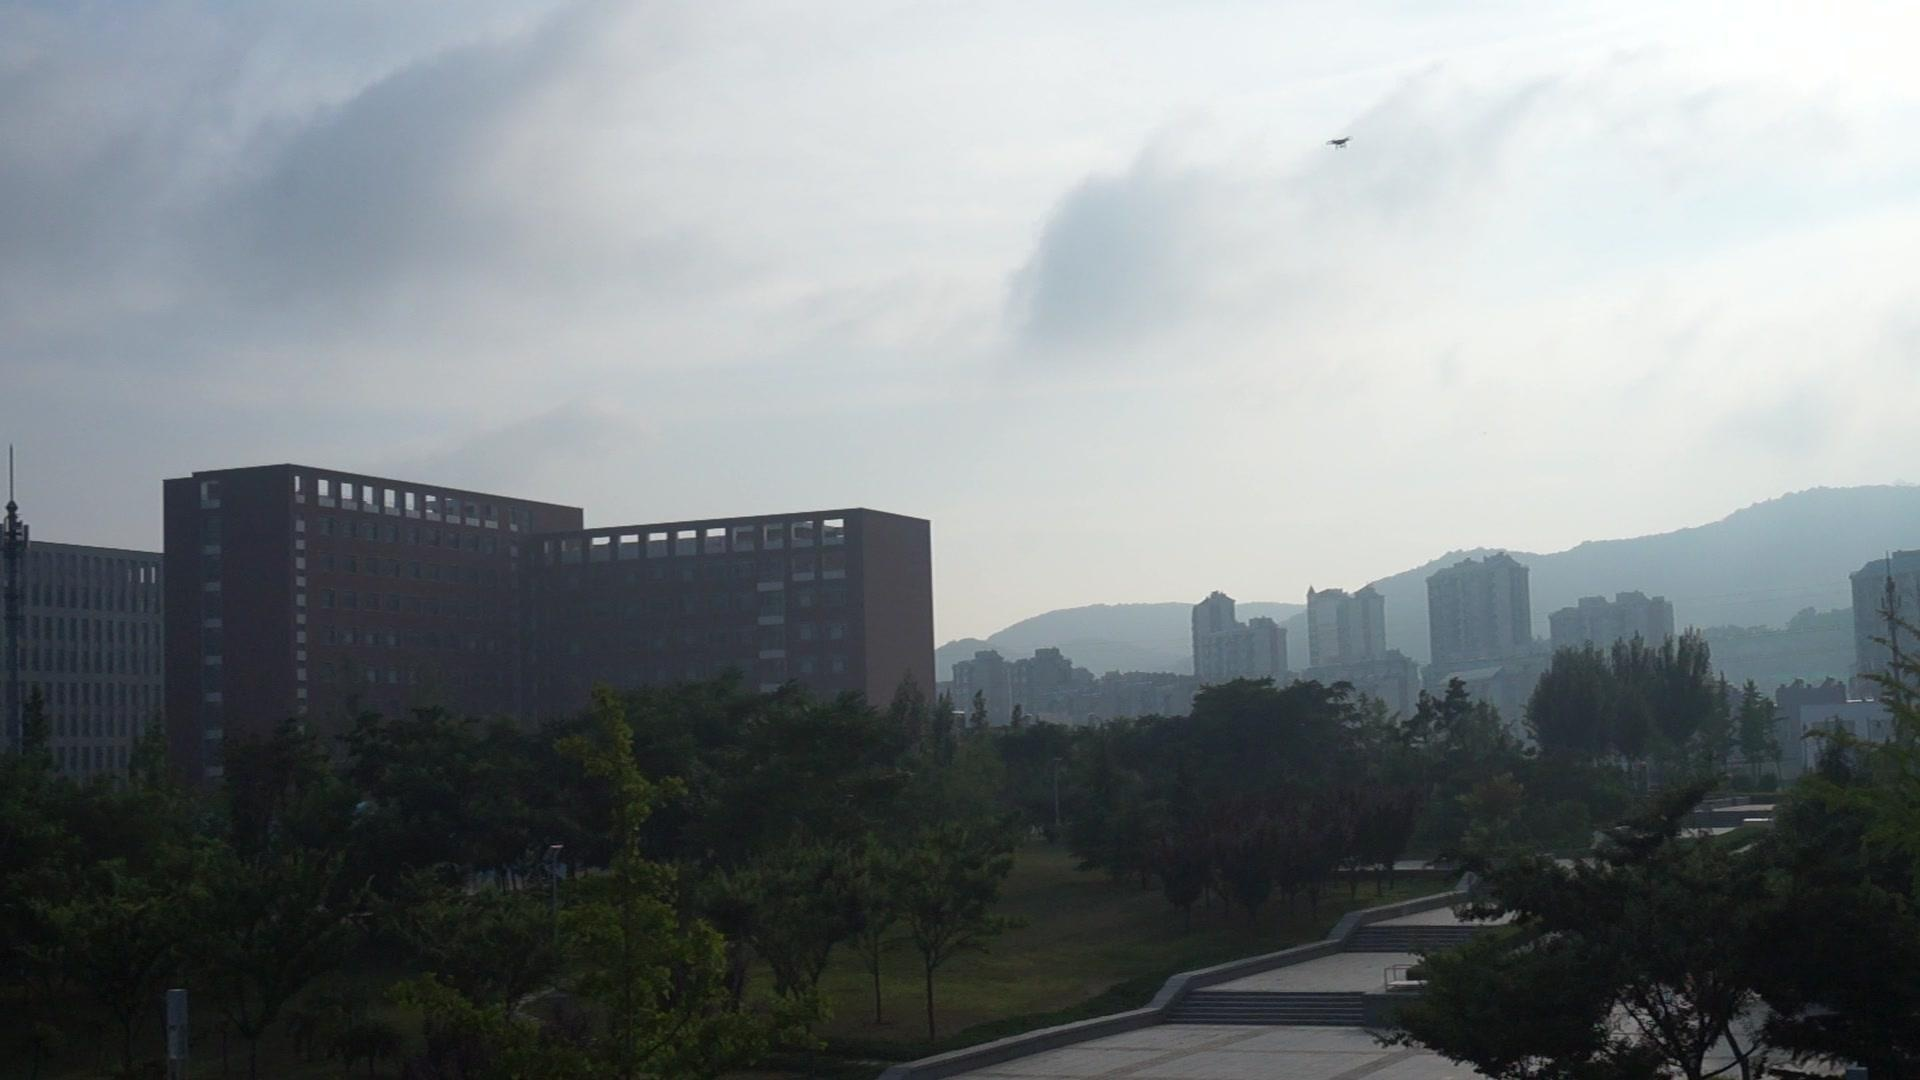UAV: (1327, 136, 1356, 152)
